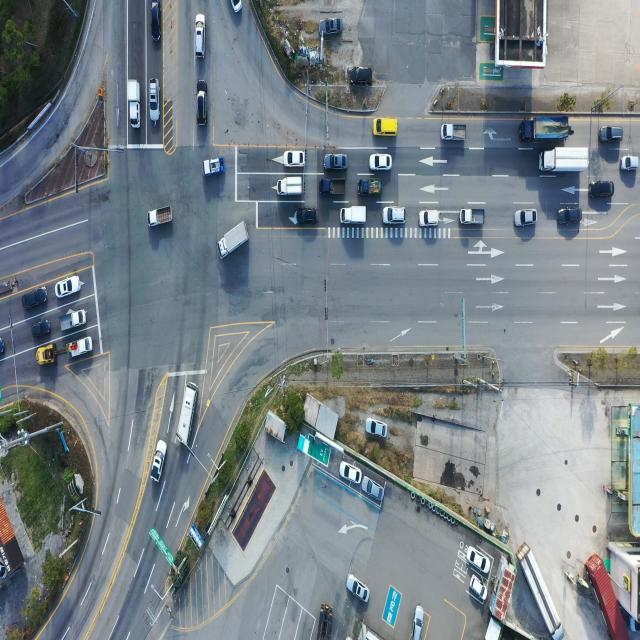car: (152, 440, 168, 484), (347, 574, 370, 602), (364, 478, 386, 504), (468, 576, 488, 603), (57, 276, 81, 298), (24, 288, 48, 309), (589, 180, 615, 199), (364, 418, 387, 439), (558, 206, 582, 226), (354, 62, 378, 82), (470, 550, 490, 574), (341, 462, 362, 484), (148, 81, 159, 123), (350, 66, 373, 86), (374, 117, 398, 136), (601, 126, 625, 145), (412, 606, 425, 640), (320, 18, 343, 37), (294, 208, 318, 226), (150, 0, 160, 43), (196, 16, 206, 58), (515, 209, 538, 227), (386, 203, 409, 221), (383, 207, 405, 225), (324, 156, 347, 172), (284, 150, 305, 167), (371, 156, 393, 172), (199, 87, 208, 125), (420, 210, 440, 227), (32, 320, 52, 337), (621, 156, 640, 173), (230, 0, 242, 12), (0, 339, 6, 358)
medium_truck: (518, 542, 565, 637), (519, 113, 570, 146), (540, 146, 590, 173), (219, 222, 250, 262), (318, 605, 336, 640)
small_bus: (178, 382, 202, 448)
small_truck: (129, 79, 142, 129), (60, 309, 86, 332), (66, 337, 92, 359), (276, 176, 304, 196), (340, 206, 367, 226), (148, 206, 173, 227), (459, 208, 485, 227), (321, 178, 348, 196), (442, 124, 467, 143), (203, 158, 226, 177), (357, 181, 380, 199)
